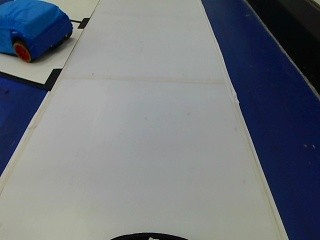car: (0, 1, 71, 61)
